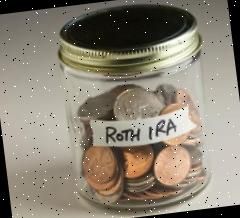glass: (52, 0, 222, 218)
